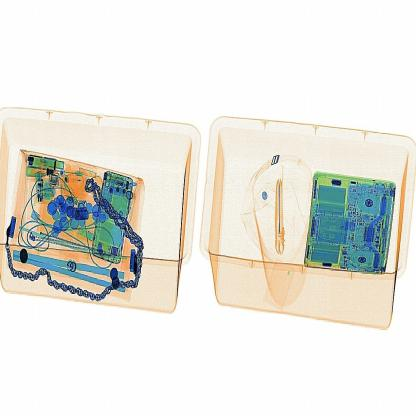pliers: (270, 169, 299, 259)
